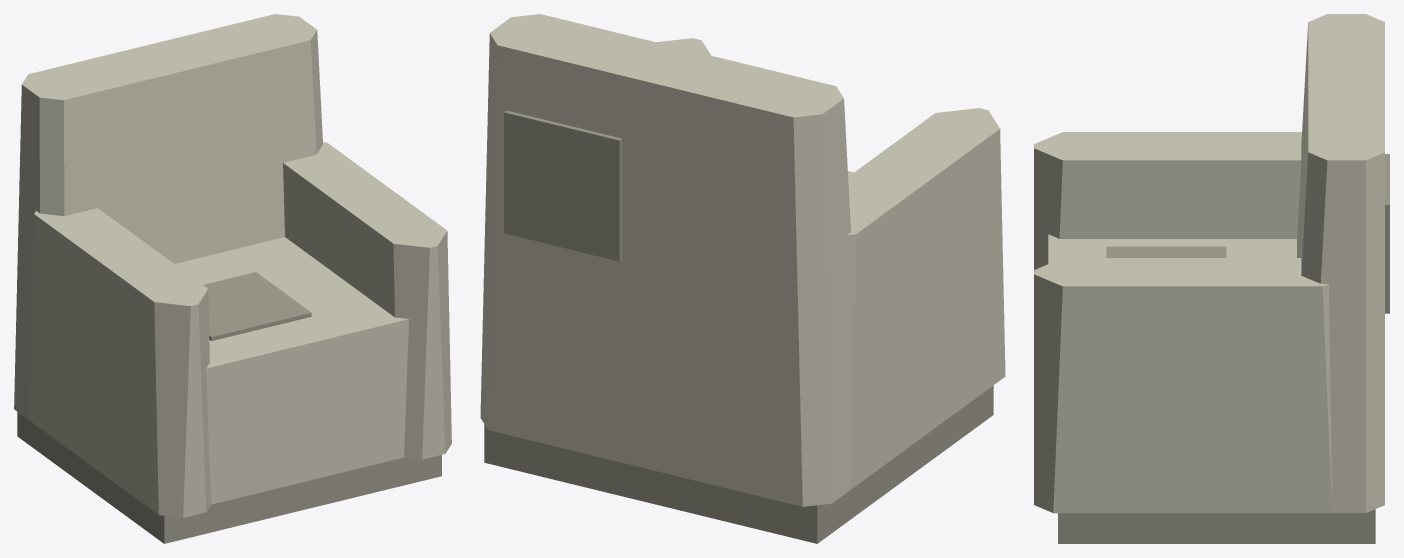
Rendered from oc_armchair.obj.
The picture shows the model from 3 angles, left to right: view 1: azimuth 30°, elevation 25°; view 2: azimuth 150°, elevation 25°; view 3: azimuth 270°, elevation 25°; orthographic projection. The views are drawn at different scales.
Parts seen in each view (by area): view 1: oc_armchair_2, oc_armchair_3, oc_armchair_1, oc_armchair_4, oc_armchair_0, oc_armchair_5; view 2: oc_armchair_2, oc_armchair_3, oc_armchair_0, oc_armchair_6; view 3: oc_armchair_4, oc_armchair_2, oc_armchair_3, oc_armchair_0, oc_armchair_1, oc_armchair_5, oc_armchair_6.
Boxes of the visible parts, x1=… form: oc_armchair_2: x1=14, y1=14, x2=322, y2=420; oc_armchair_3: x1=29, y1=208, x2=210, y2=517; oc_armchair_1: x1=175, y1=237, x2=408, y2=504; oc_armchair_4: x1=283, y1=142, x2=451, y2=459; oc_armchair_0: x1=17, y1=412, x2=441, y2=543; oc_armchair_5: x1=203, y1=272, x2=311, y2=340; oc_armchair_2: x1=480, y1=14, x2=850, y2=506; oc_armchair_3: x1=846, y1=108, x2=1005, y2=489; oc_armchair_0: x1=484, y1=385, x2=993, y2=543; oc_armchair_6: x1=504, y1=110, x2=622, y2=261; oc_armchair_4: x1=1034, y1=258, x2=1332, y2=513; oc_armchair_2: x1=1297, y1=14, x2=1384, y2=513; oc_armchair_3: x1=1034, y1=132, x2=1301, y2=269; oc_armchair_0: x1=1058, y1=509, x2=1375, y2=543; oc_armchair_1: x1=1048, y1=234, x2=1296, y2=263; oc_armchair_5: x1=1106, y1=246, x2=1226, y2=257; oc_armchair_6: x1=1385, y1=154, x2=1389, y2=313.
Size of the model in its own units: 0.76 by 0.88 by 0.74.
